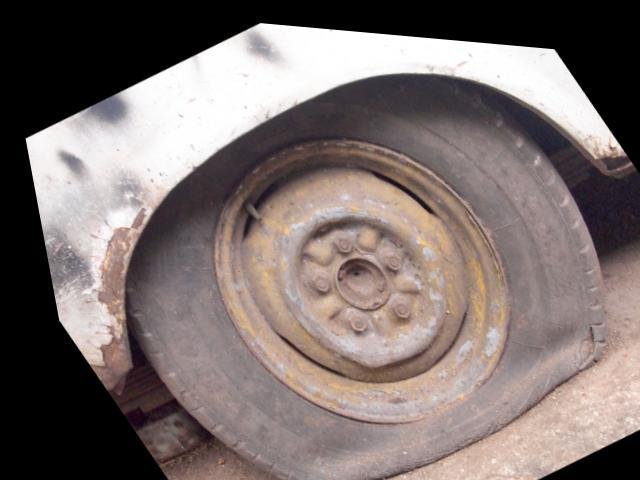tire flat: (115, 64, 597, 480)
